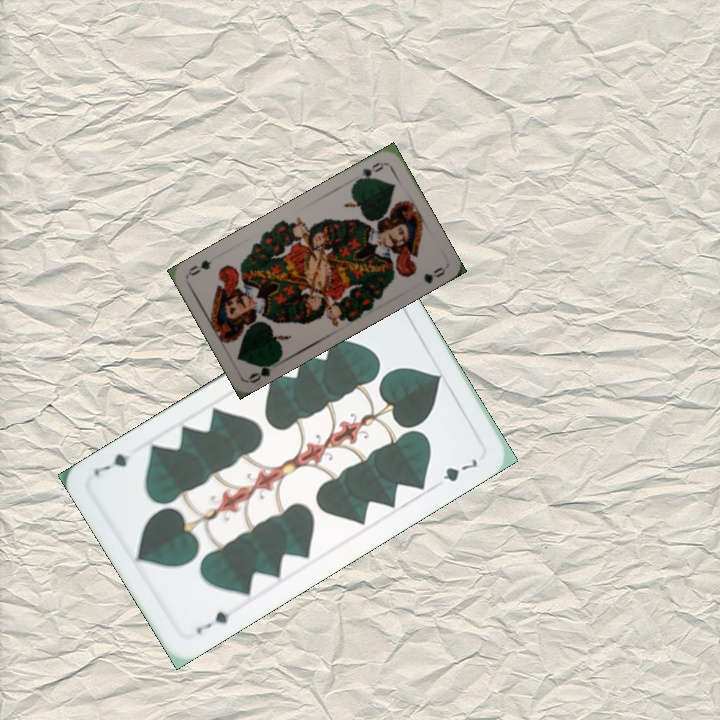G7: (192, 607, 233, 637)
GO: (245, 356, 281, 386), (351, 158, 388, 186)
